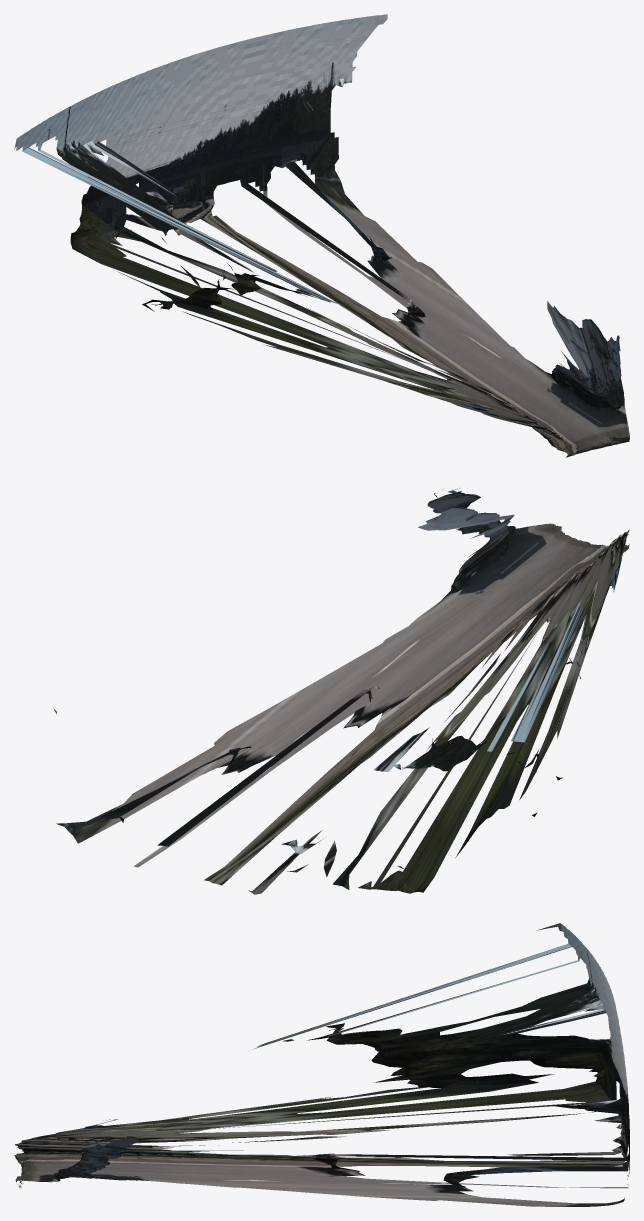
3 renders of one model, top to bottom at view 1: azimuth 30°, elevation 25°; view 2: azimuth 150°, elevation 25°; view 3: azimuth 270°, elevation 25°, orthographic. The views are drawn at different scales.
Visible parts, largest first — view 1: defaultobject; view 2: defaultobject; view 3: defaultobject.
Part boxes in pixels (left/top/right/bottom): defaultobject: left=14, top=14, right=629, bottom=457; defaultobject: left=53, top=488, right=629, bottom=894; defaultobject: left=14, top=923, right=629, bottom=1206.
Bounding box in the file's own units: 29.49 × 12.43 × 44.7.
1 material, 1 textured.
